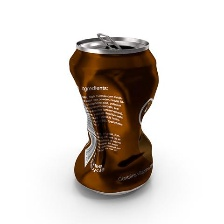can: (67, 29, 161, 200)
